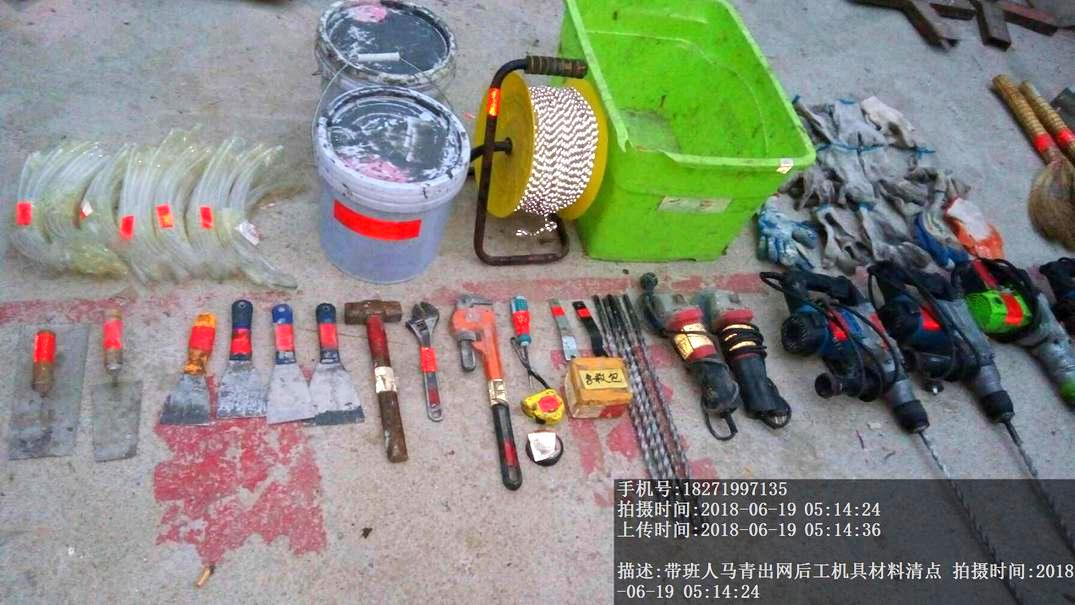DX: (465, 52, 609, 267)
DZ: (790, 284, 915, 443), (899, 285, 1020, 435)
T: (586, 5, 811, 262)
